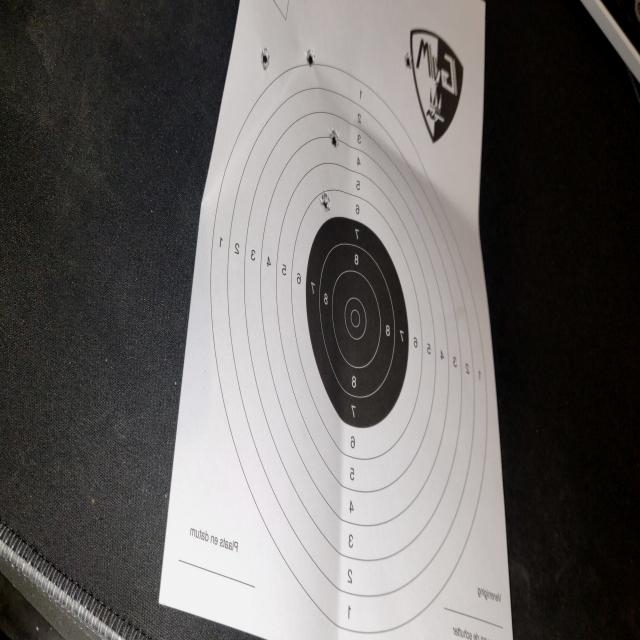0: (260, 47, 270, 71), (403, 52, 413, 72)
1: (305, 46, 316, 68)
4: (329, 127, 339, 150)
6: (319, 190, 331, 214)
Target: (209, 60, 488, 630)
black_contour: (305, 218, 409, 427)
